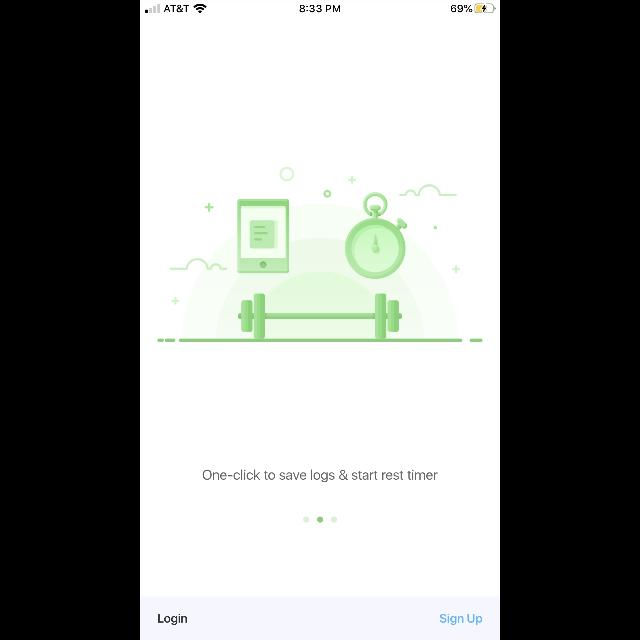image: (157, 166, 483, 342)
pageindicator: (303, 516, 337, 522)
text: (202, 470, 438, 482), (440, 614, 482, 624), (158, 614, 188, 624)
uppertaskbar: (140, 0, 500, 14)
